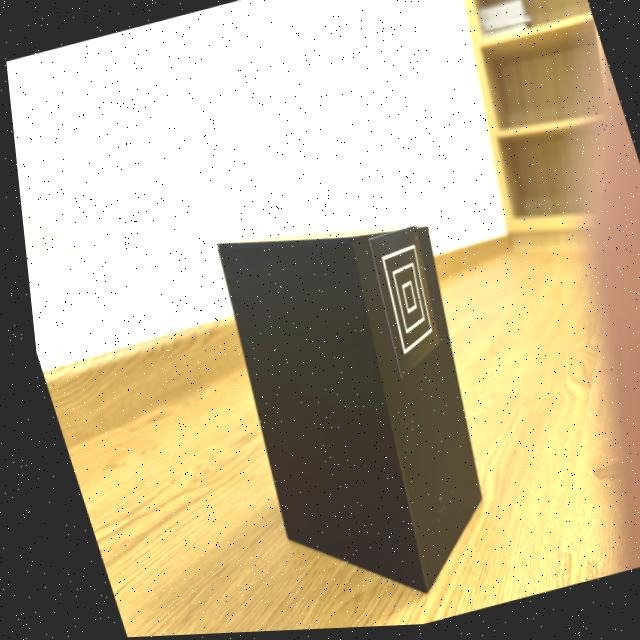BULLSEYE: (363, 227, 433, 381)
